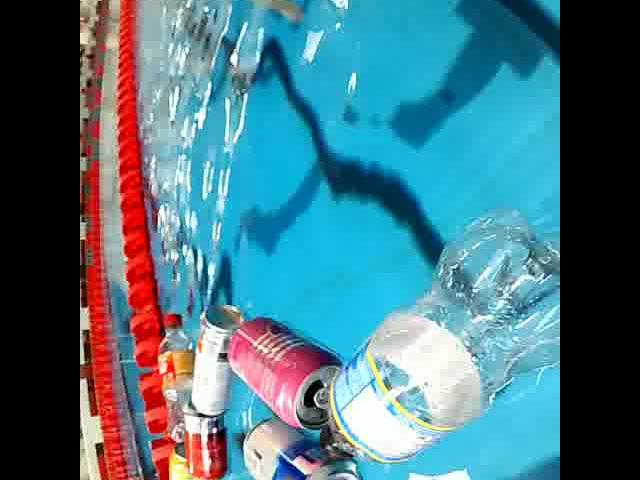Bottle: (316, 204, 560, 468), (156, 304, 204, 444)
Can: (225, 310, 346, 430), (248, 413, 366, 480), (187, 292, 245, 418), (186, 392, 228, 480), (165, 436, 205, 480)
